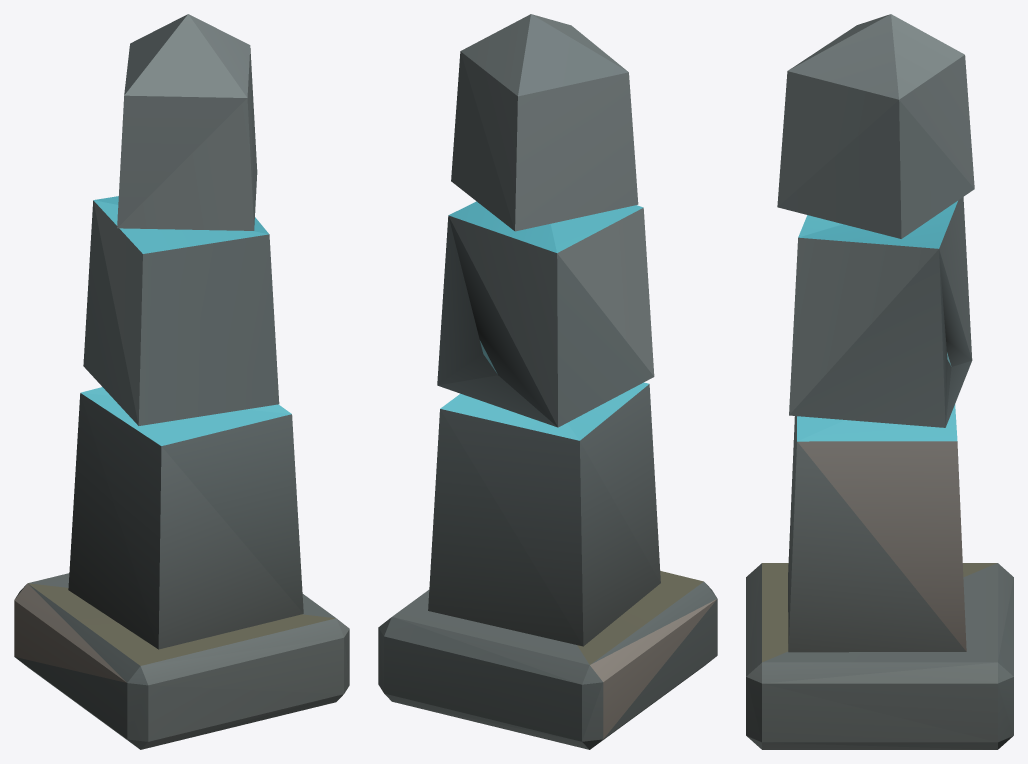
The model's file is rift_stele.glb.
The picture shows the model from 3 angles, left to right: view 1: azimuth 30°, elevation 25°; view 2: azimuth 150°, elevation 25°; view 3: azimuth 270°, elevation 25°; orthographic projection. The views are drawn at different scales.
Visible parts, largest first — view 1: ca_rift_stele; view 2: ca_rift_stele; view 3: ca_rift_stele.
Boxes of the visible parts, left/top/right/bottom form: ca_rift_stele: left=14, top=14, right=349, bottom=749; ca_rift_stele: left=378, top=14, right=717, bottom=749; ca_rift_stele: left=746, top=14, right=1013, bottom=749.
Size of the model in its own units: 0.307 by 0.8754 by 0.307.
1 material, 1 textured.
